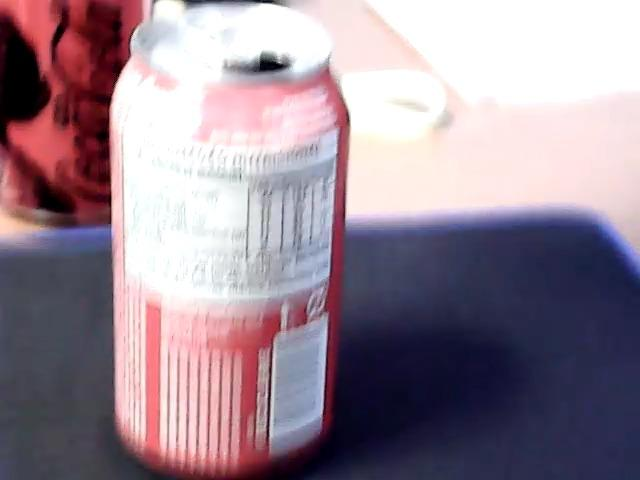coke: (119, 29, 346, 475), (0, 0, 287, 228)
